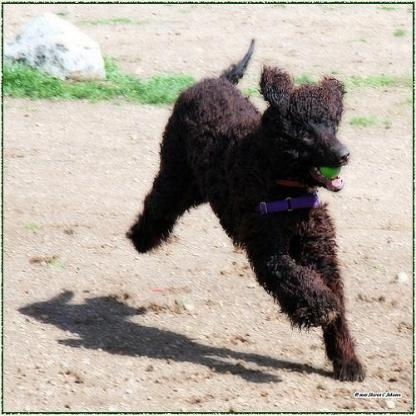Irish_water_spaniel: (124, 36, 368, 384)
